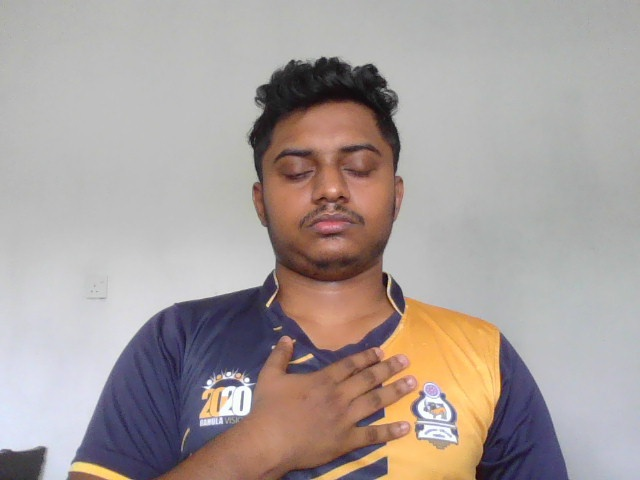Please: (255, 335, 419, 468)
